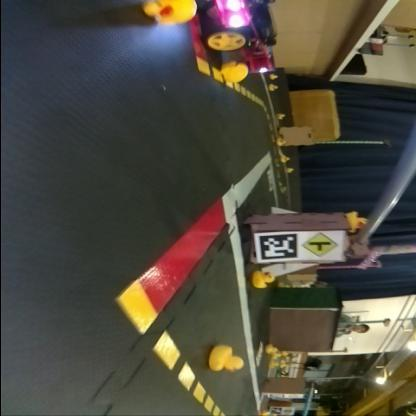Duckie: (144, 0, 198, 24), (209, 344, 244, 372), (221, 60, 247, 82), (348, 210, 368, 233), (252, 270, 274, 288), (265, 344, 277, 352), (277, 137, 285, 143), (286, 166, 294, 172), (270, 72, 278, 78), (269, 83, 277, 88), (277, 113, 285, 118), (282, 156, 290, 160)
Duckiebot: (200, 1, 276, 72)
Intersection sign: (301, 230, 342, 258)
QR code: (259, 232, 298, 258)
